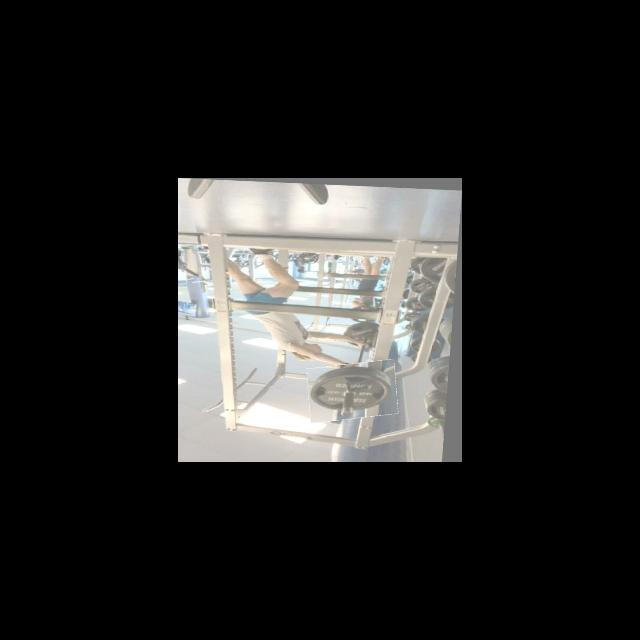barbell: (308, 357, 403, 422)
